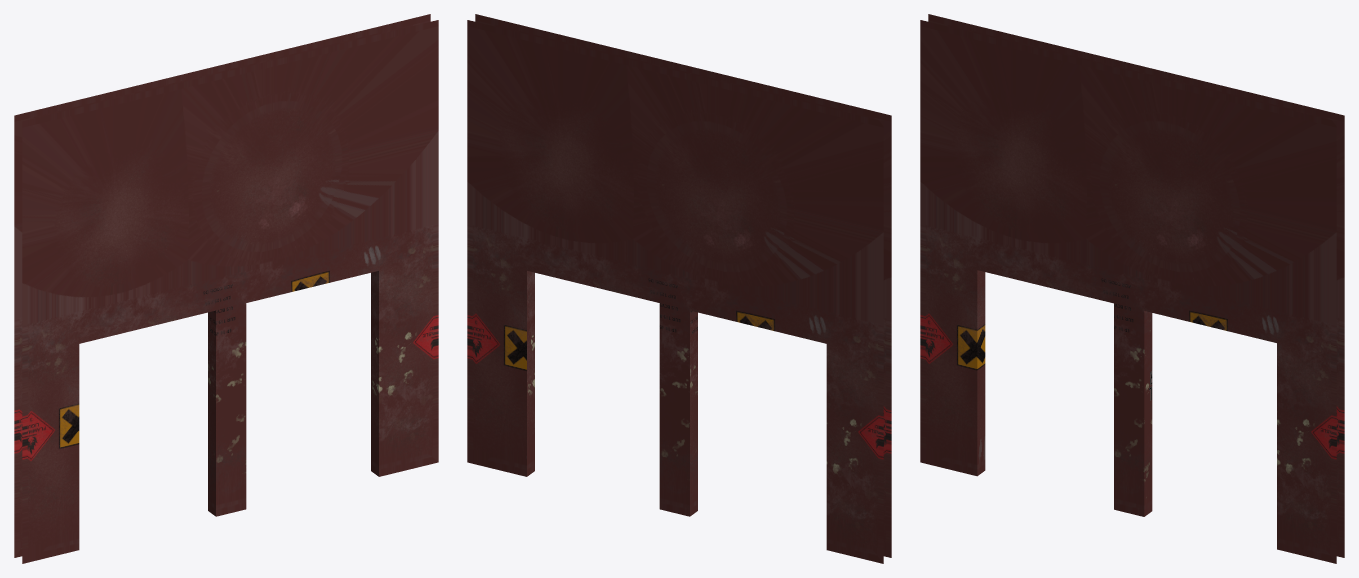
The model's file is CS_wall_large_gates.FBX.
The picture shows the model from 3 angles, left to right: view 1: azimuth 30°, elevation 25°; view 2: azimuth 150°, elevation 25°; view 3: azimuth 330°, elevation 25°; orthographic projection.
Visible parts, largest first — view 1: SM_wall_large_gates; view 2: SM_wall_large_gates; view 3: SM_wall_large_gates.
Boxes of the visible parts, x1,y1,x2,y2 form: SM_wall_large_gates: (14,14,438,563); SM_wall_large_gates: (467,14,891,563); SM_wall_large_gates: (920,14,1344,563).
Size of the model in its own units: 600 by 20 by 610.
